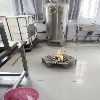fire: (54, 49, 63, 60)
